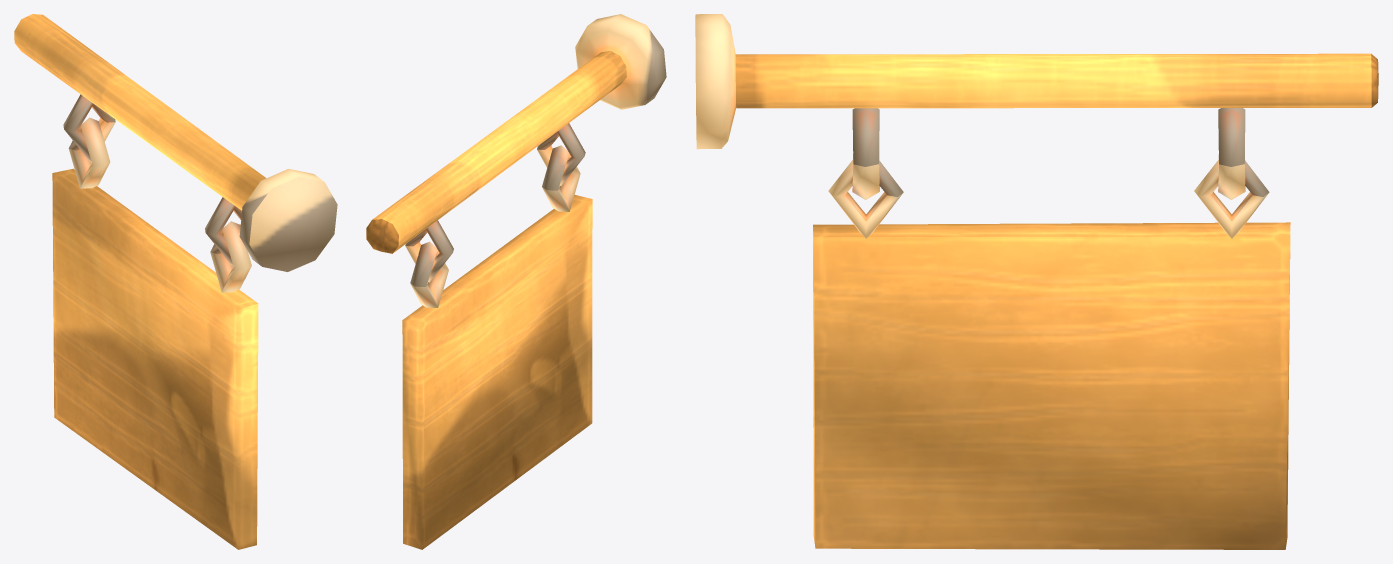
The model's file is SM_Stylized_Board_D.fbx.
The picture shows the model from 3 angles, left to right: view 1: azimuth 30°, elevation 25°; view 2: azimuth 150°, elevation 25°; view 3: azimuth 270°, elevation 25°; orthographic projection. The views are drawn at different scales.
Parts seen in each view (by area): view 1: SM_Stylized_Board_D_LOD0; view 2: SM_Stylized_Board_D_LOD0; view 3: SM_Stylized_Board_D_LOD0.
Part boxes in pixels (x1=…): SM_Stylized_Board_D_LOD0: x1=14, y1=14, x2=337, y2=549; SM_Stylized_Board_D_LOD0: x1=366, y1=14, x2=666, y2=549; SM_Stylized_Board_D_LOD0: x1=695, y1=14, x2=1378, y2=549.
Bounding box in the file's own units: 9.97 × 51.74 × 43.71.
